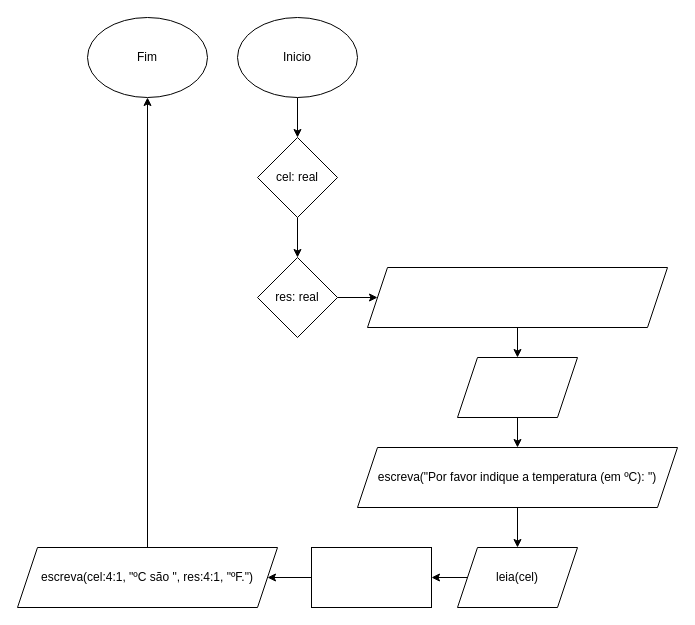
The diagram is 695 pixels wide and 625 high, and some of its shapes have lost their labels. The box of each missing label's shape, as (x1, y1, x2, y2) in pixels:
escreval(""): (456, 356, 578, 418)
escreval("/\/\/\/\/\/ Conversor para ºF \/\/\/\/\/\"): (366, 266, 668, 328)
res <- 32 + ((9 * cel) /5 ): (310, 546, 432, 608)
